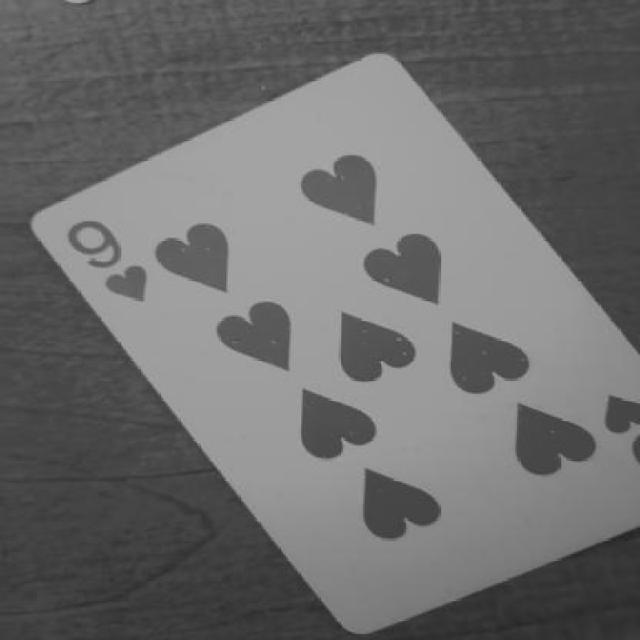9H: (59, 204, 163, 318)
